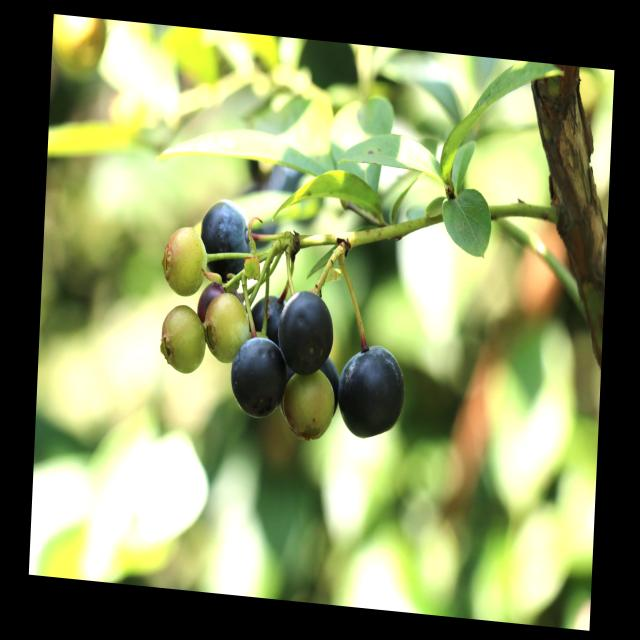blueberry: (328, 336, 411, 446), (270, 282, 337, 384), (223, 327, 290, 427), (194, 192, 258, 288), (279, 343, 344, 431), (242, 285, 290, 347)
blueberry-unripe: (157, 301, 208, 380), (282, 370, 335, 444), (160, 224, 209, 302), (200, 288, 248, 361)
